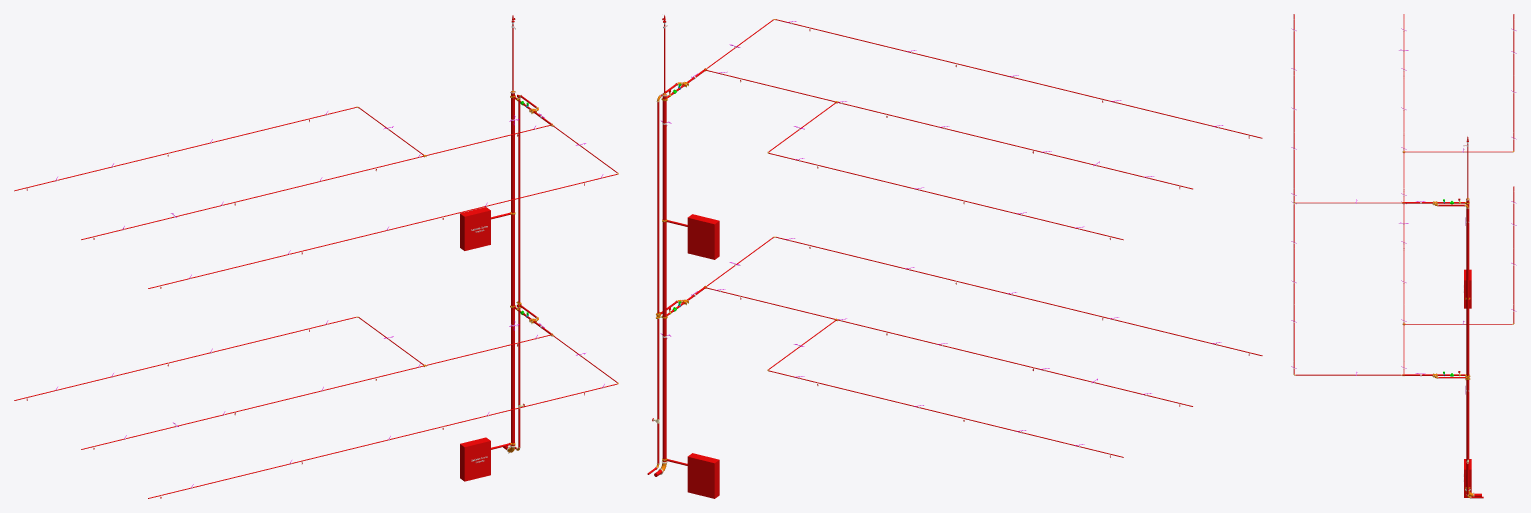
Rendered from red_completa.glb.
The picture shows the model from 3 angles, left to right: view 1: azimuth 30°, elevation 25°; view 2: azimuth 150°, elevation 25°; view 3: azimuth 270°, elevation 25°; orthographic projection. The views are drawn at different scales.
Visible parts, largest first — view 1: Geom3D (×6); view 2: Geom3D (×7); view 3: Geom3D (×8).
Boxes of the visible parts, x1=… form: Geom3D (×6): x1=81, y1=125, x2=617, y2=498; Geom3D (×7): x1=662, y1=19, x2=1262, y2=498; Geom3D (×8): x1=1293, y1=14, x2=1514, y2=489.
Bounding box in the file's own units: 14.66 × 13.17 × 7.24.
